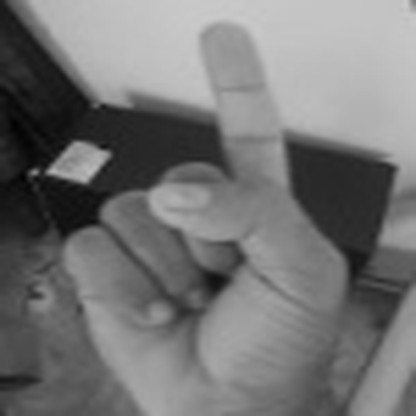d: (47, 13, 363, 409)
